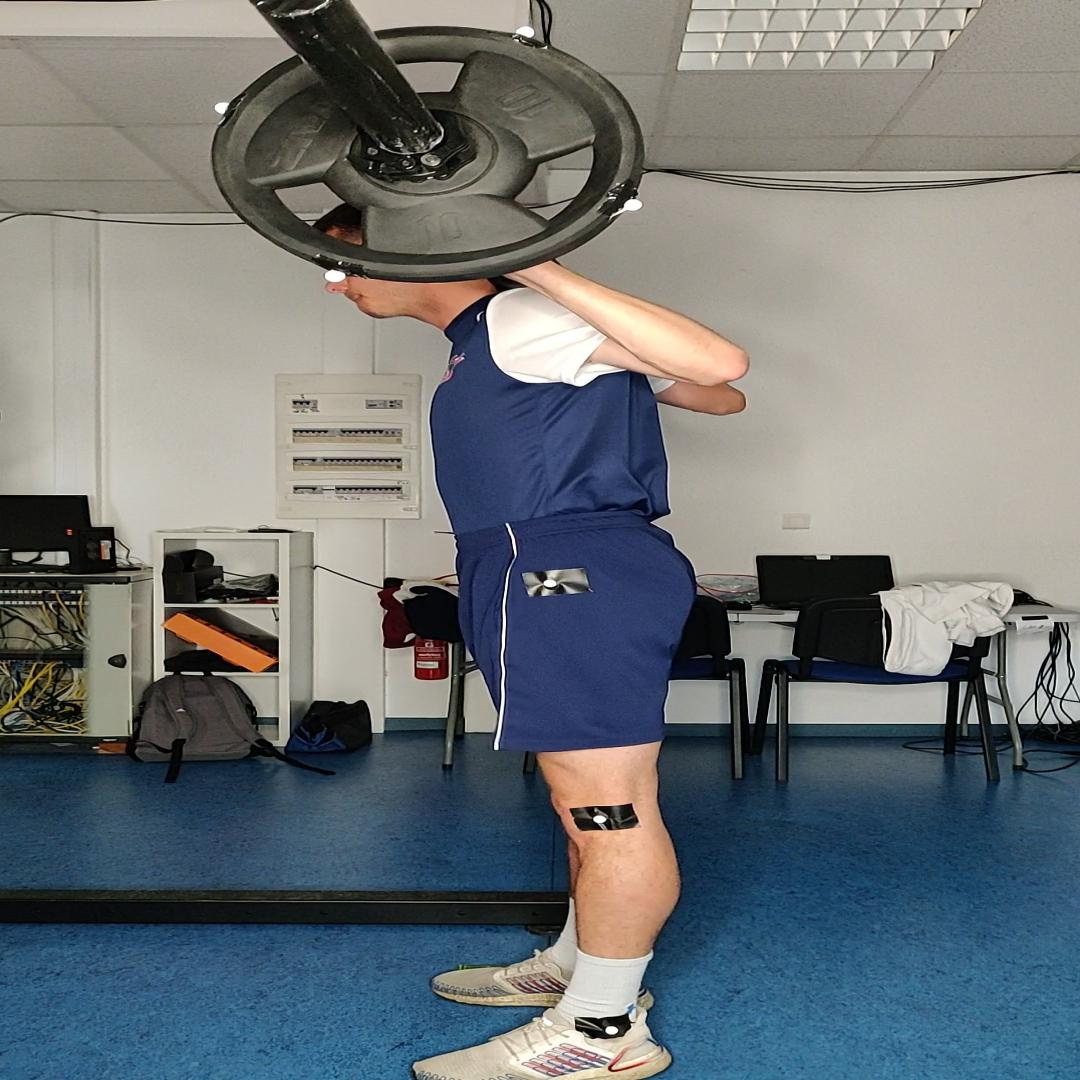Barbell: (211, 25, 645, 284)
